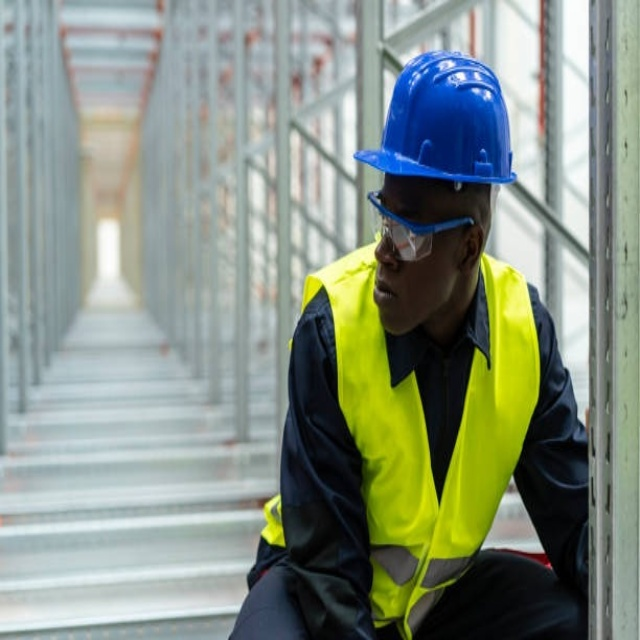Gafas: (364, 184, 478, 268)
Sin_mascara: (369, 273, 410, 339)
